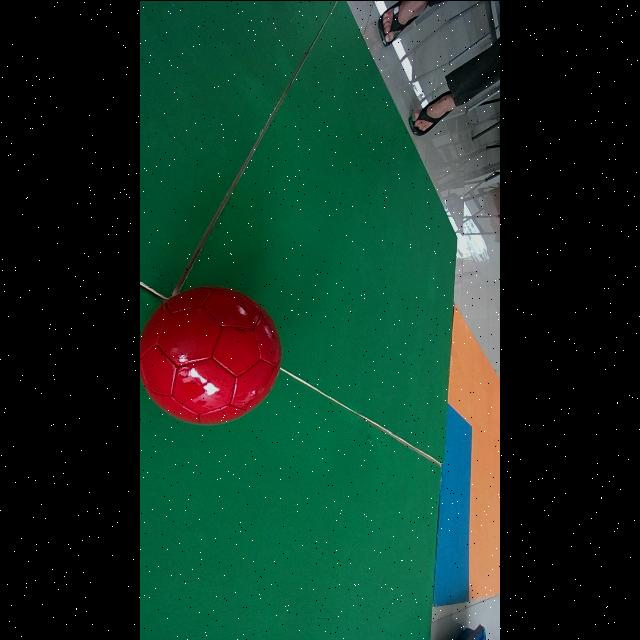R: (140, 285, 282, 422)
